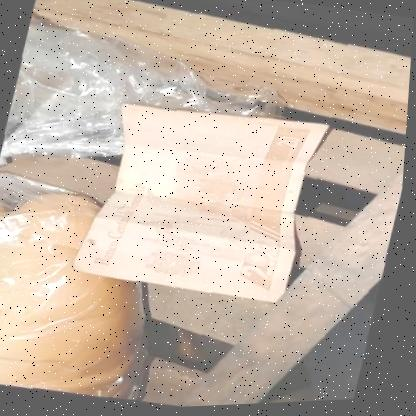vef_back: (70, 88, 334, 314)
